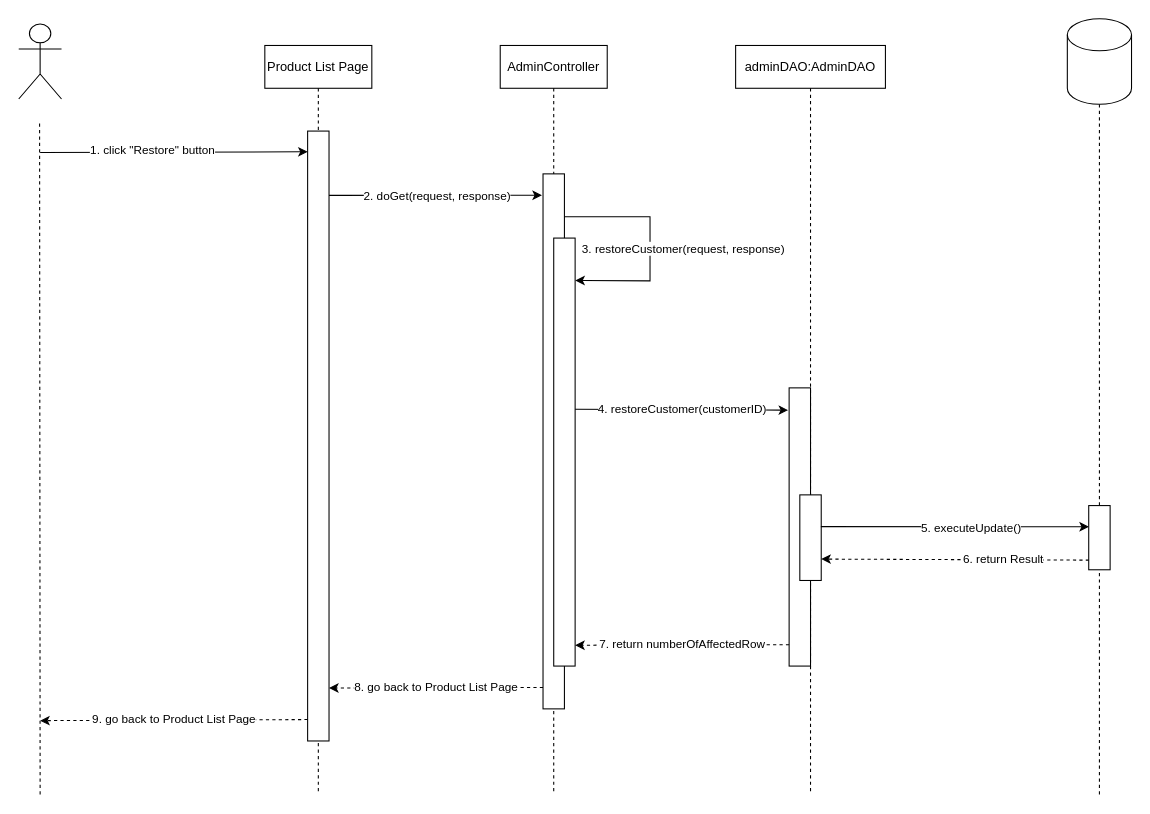
Image size: 1150x814. Some labels were removed from this diagram. Each missing label, with the centre of its shape:
"Admin" belongs at [40,61].
"Database" belongs at [1099,61].
